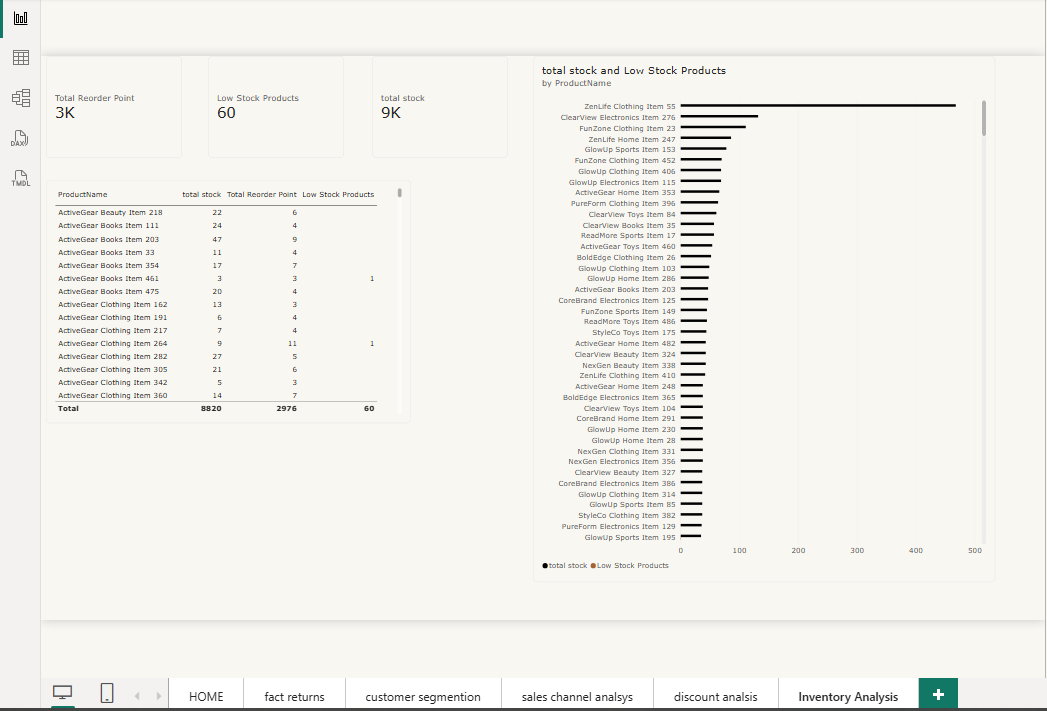

Layout of this report page (visuals, bound fields, positions):
{"tool":"powerbi","page":{"name":"Inventory Analysis","canvas":[1920,1080],"ordinal":5},"visuals":[{"type":"cardVisual","fields":{"Data":["dw FactReturns.total stock"]},"box":[9.6,0,260.1,195.1],"z":0},{"type":"cardVisual","fields":{"Data":["dw FactReturns.Low Stock Products"]},"box":[319.4,0,260.1,195.1],"z":1},{"type":"cardVisual","fields":{"Data":["dw FactReturns.total stock1"]},"box":[633,0,260.1,195.1],"z":2},{"type":"tableEx","fields":{"Values":["dw dimproduct.ProductName","dw FactReturns.total stock","dw FactReturns.Total Reorder Point","dw FactReturns.Low Stock Products"]},"box":[9.6,237.1,698,464.7],"z":3},{"type":"clusteredBarChart","fields":{"Category":["dw dimproduct.ProductName"],"Y":["dw FactReturns.total stock","dw FactReturns.Low Stock Products"]},"box":[940.9,0,883.5,1005.9],"z":4}]}

Visuals, with their boxes on the page's 1920x1080 design canvas (x1, y1, x2, y2). These are canvas units, not pixel positions in the 1047x711 screenshot, which may show the page scaled, cropped or inside an application window:
cardVisual - dw FactReturns.total stock: [left=10, top=0, right=270, bottom=195]
cardVisual - dw FactReturns.Low Stock Products: [left=319, top=0, right=580, bottom=195]
cardVisual - dw FactReturns.total stock1: [left=633, top=0, right=893, bottom=195]
tableEx - dw dimproduct.ProductName x dw FactReturns.total stock: [left=10, top=237, right=708, bottom=702]
clusteredBarChart - dw dimproduct.ProductName x dw FactReturns.total stock: [left=941, top=0, right=1824, bottom=1006]
